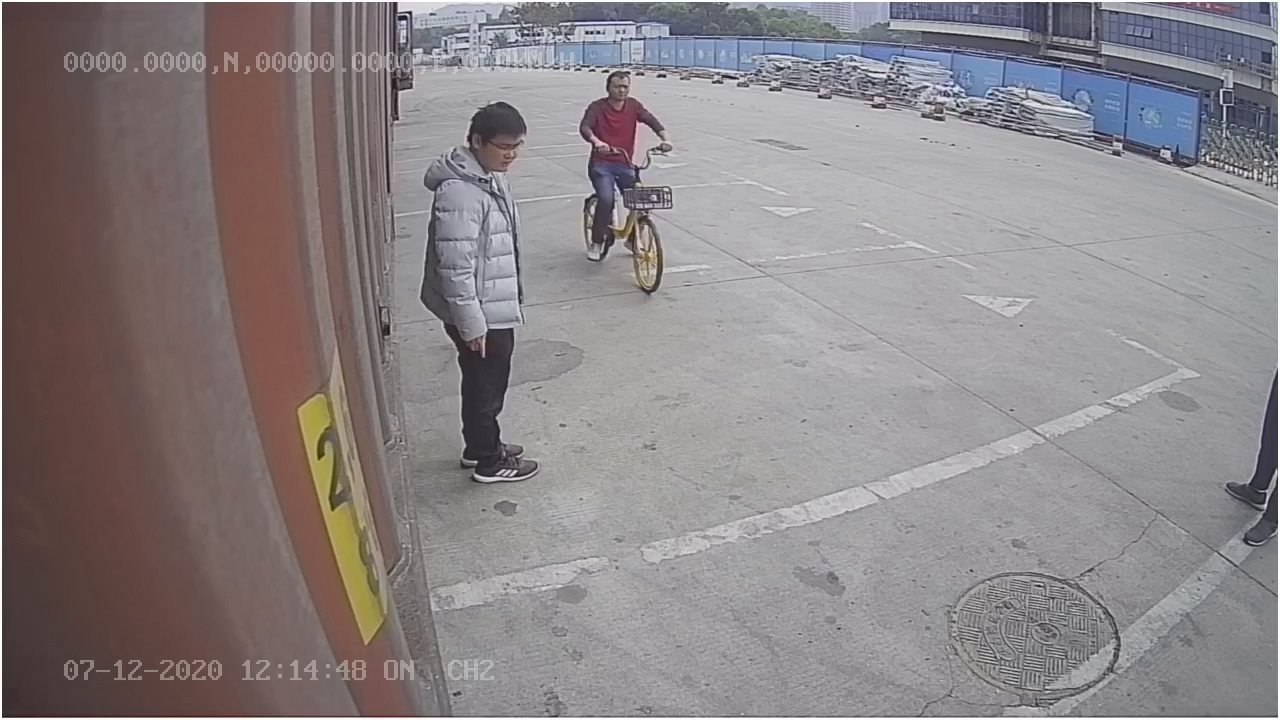person: (421, 95, 549, 486)
